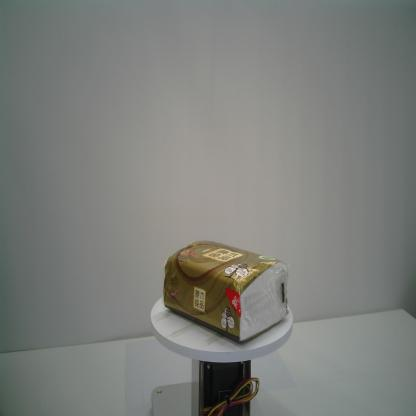Tissue: (163, 240, 289, 343)
